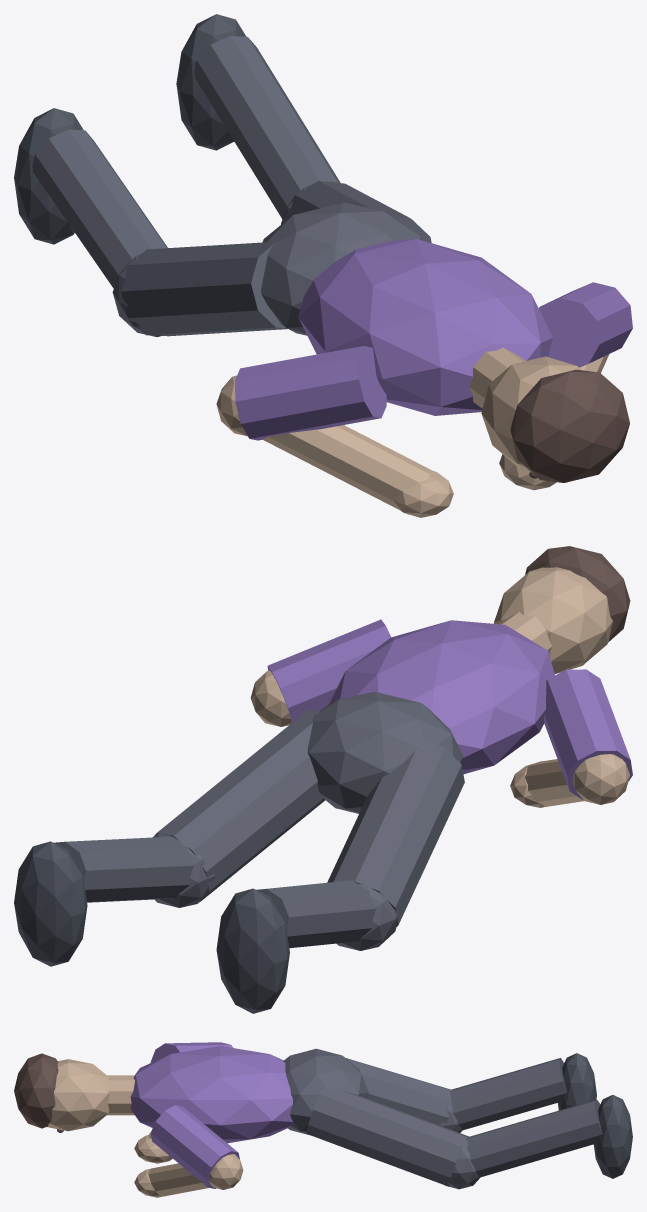
The picture shows the model from 3 angles, top to bottom: view 1: azimuth 30°, elevation 25°; view 2: azimuth 150°, elevation 25°; view 3: azimuth 270°, elevation 25°; orthographic projection. The views are drawn at different scales.
Parts seen in each view (by area): view 1: world; view 2: world; view 3: world.
Boxes of the visible parts, box(x1,y1,x2,y2) form: world: box(14, 14, 632, 517); world: box(14, 546, 632, 1013); world: box(14, 1042, 632, 1197).
Size of the model in its own units: 0.93 by 0.435 by 2.
